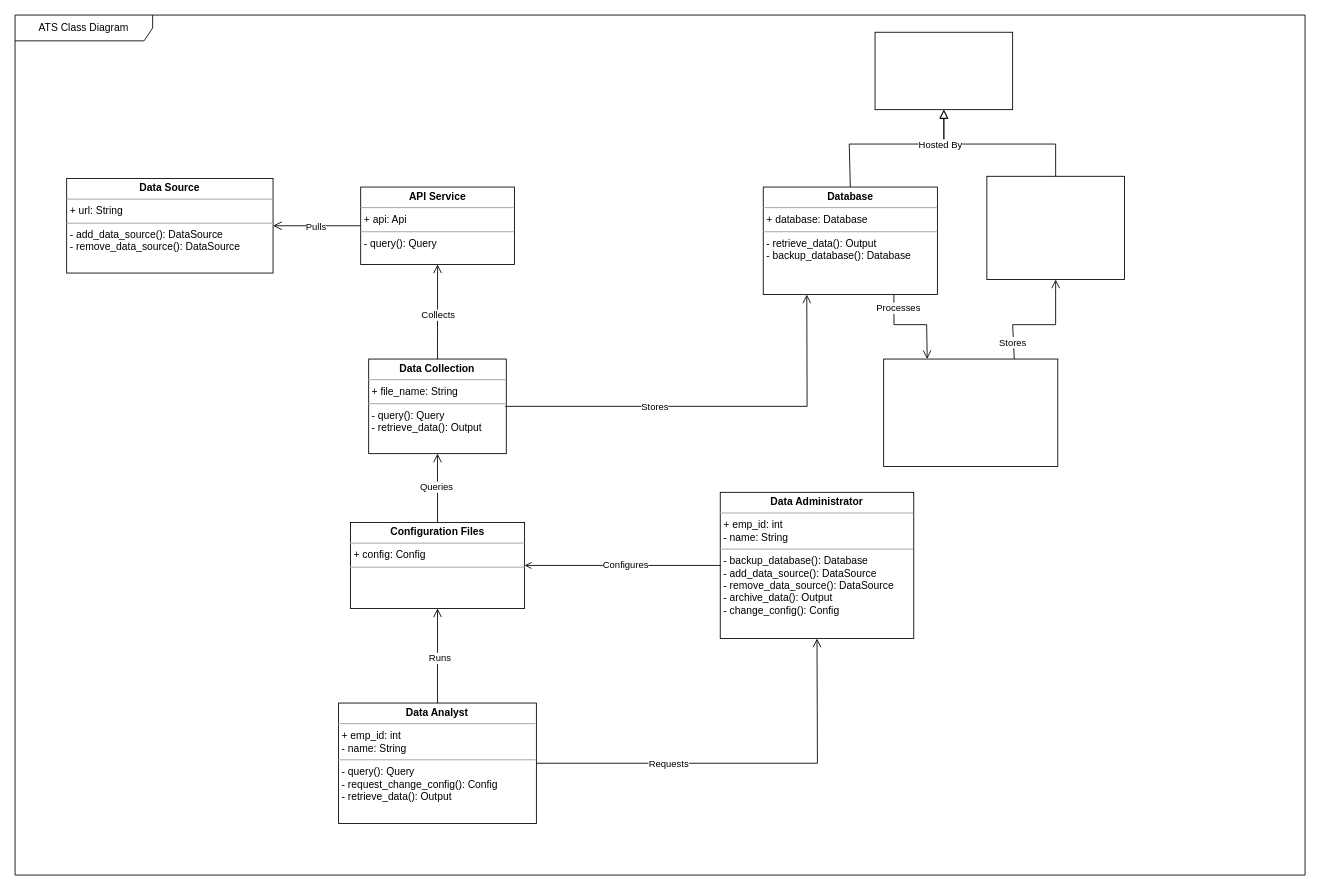
This 1320x890 diagram has some shape labels left out. Here are the shapes that lost their labels. From the top down, the centre of each, then its label:
the point at 943,70: IONOS + server: Server + hosts(): Server
the point at 1055,227: Data Warehouse + warehouse: Warehouse - retrieve_data(): Output
the point at 970,412: Data Processing + file_name: String - read_data(): Input - sql_queries(): Output
